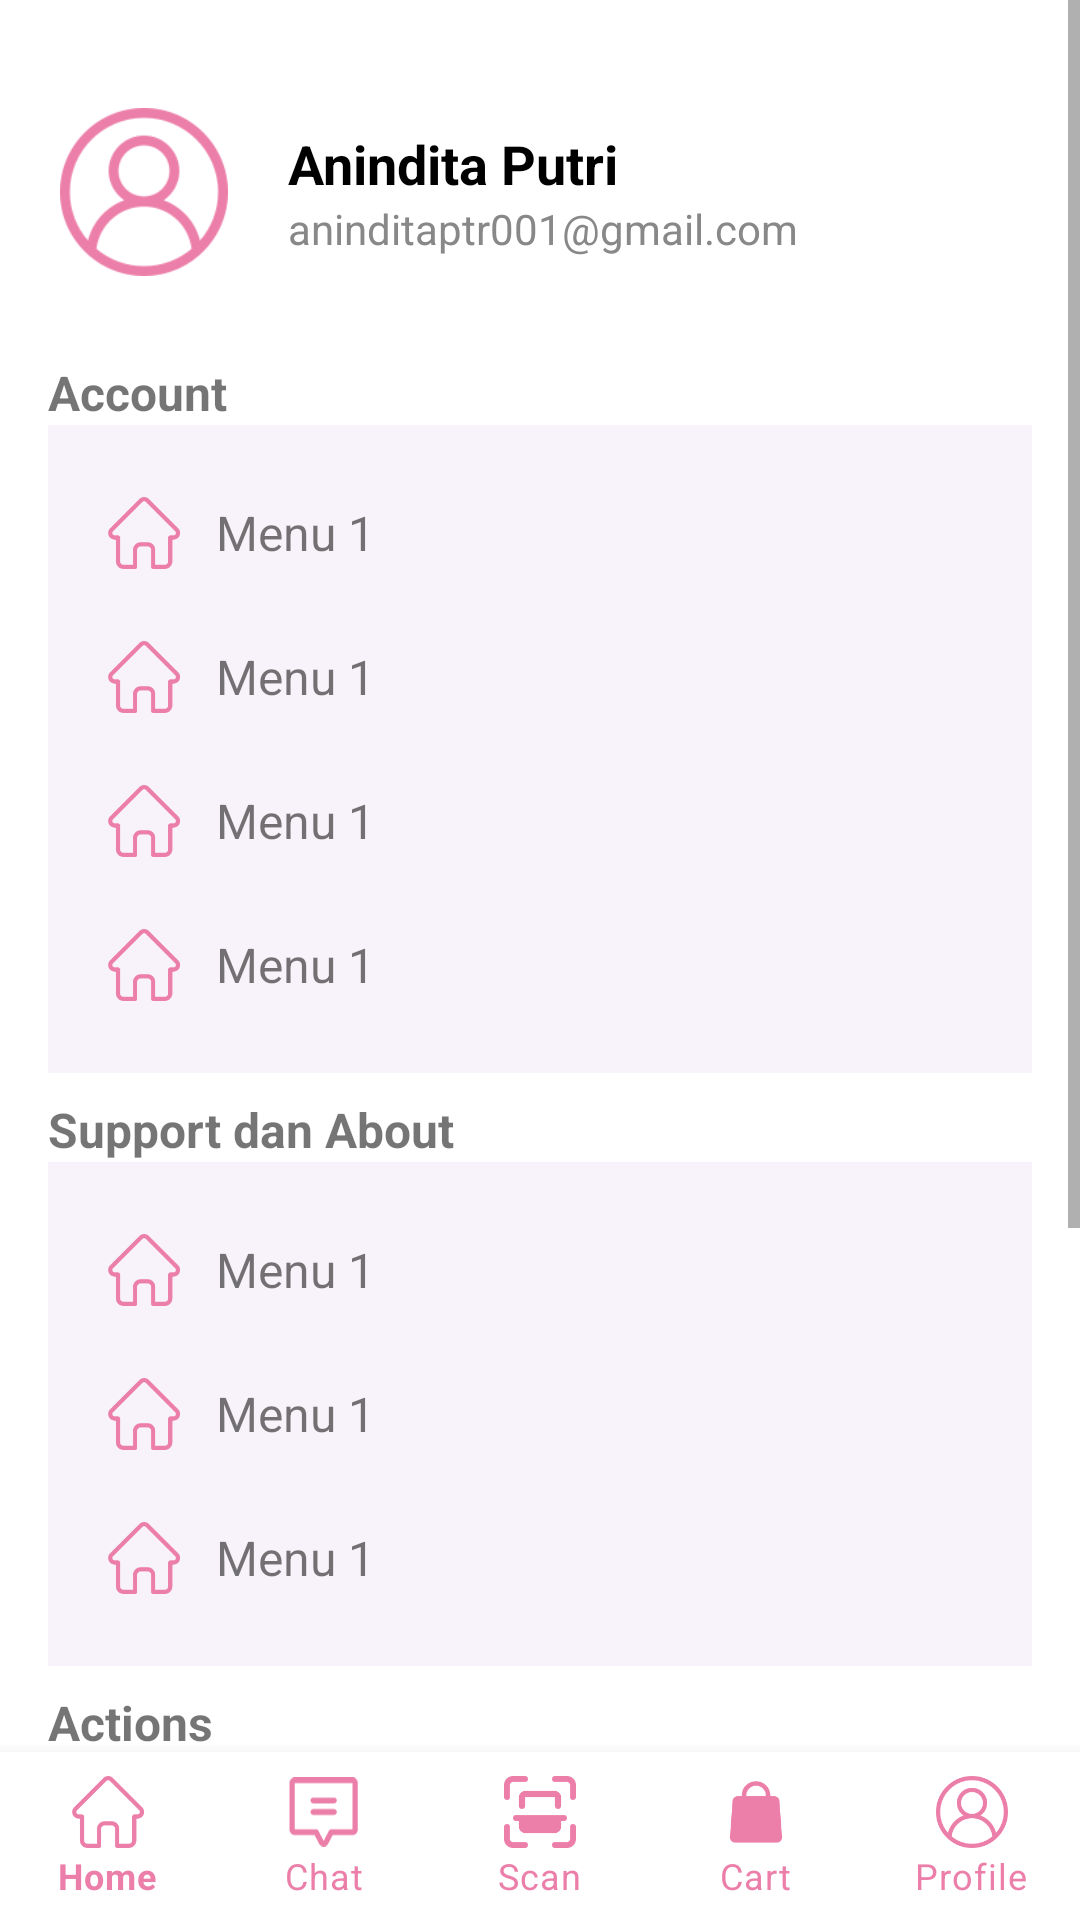

Where icons sit on this 1080 × 1920 app screen, as bbox=(x1, y1, x2, y2):
user: bbox=(60, 108, 228, 276)
